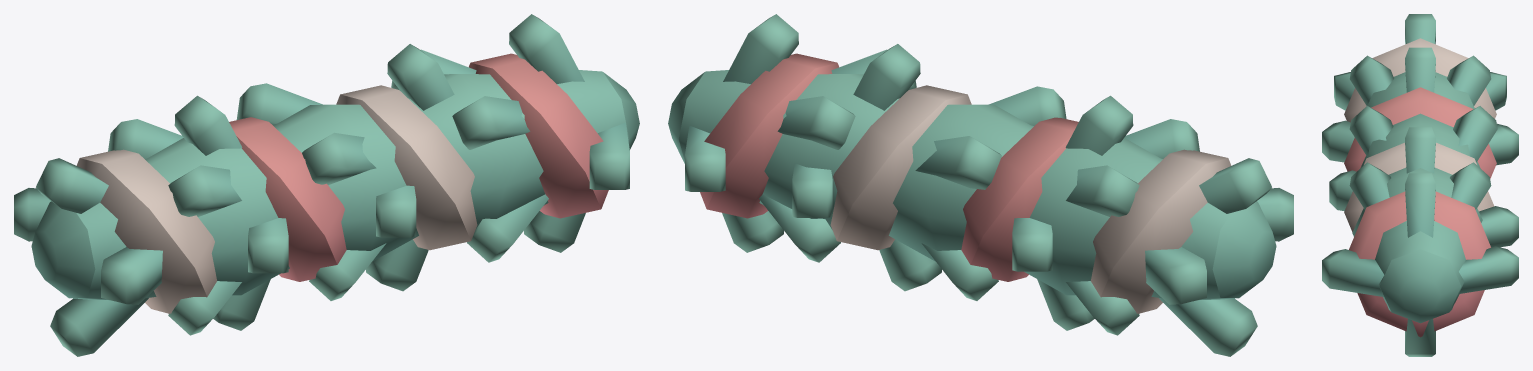
The model's file is garland-decorated.glb.
The picture shows the model from 3 angles, left to right: view 1: azimuth 30°, elevation 25°; view 2: azimuth 150°, elevation 25°; view 3: azimuth 270°, elevation 25°; orthographic projection. The views are drawn at different scales.
Parts seen in each view (by area): view 1: garland-decorated; view 2: garland-decorated; view 3: garland-decorated.
Part boxes in pixels (bbox=[...]): garland-decorated: bbox=[14, 14, 639, 356]; garland-decorated: bbox=[668, 14, 1293, 356]; garland-decorated: bbox=[1322, 14, 1518, 356].
Size of the model in its own units: 0.8065 by 0.306 by 0.306.
